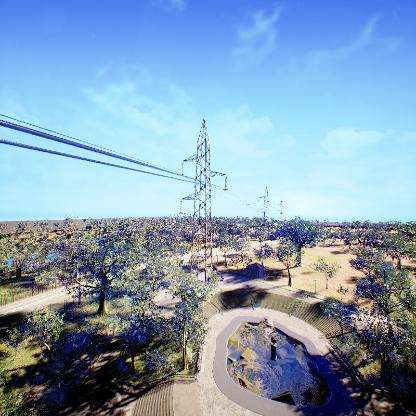tower: (177, 116, 232, 286)
